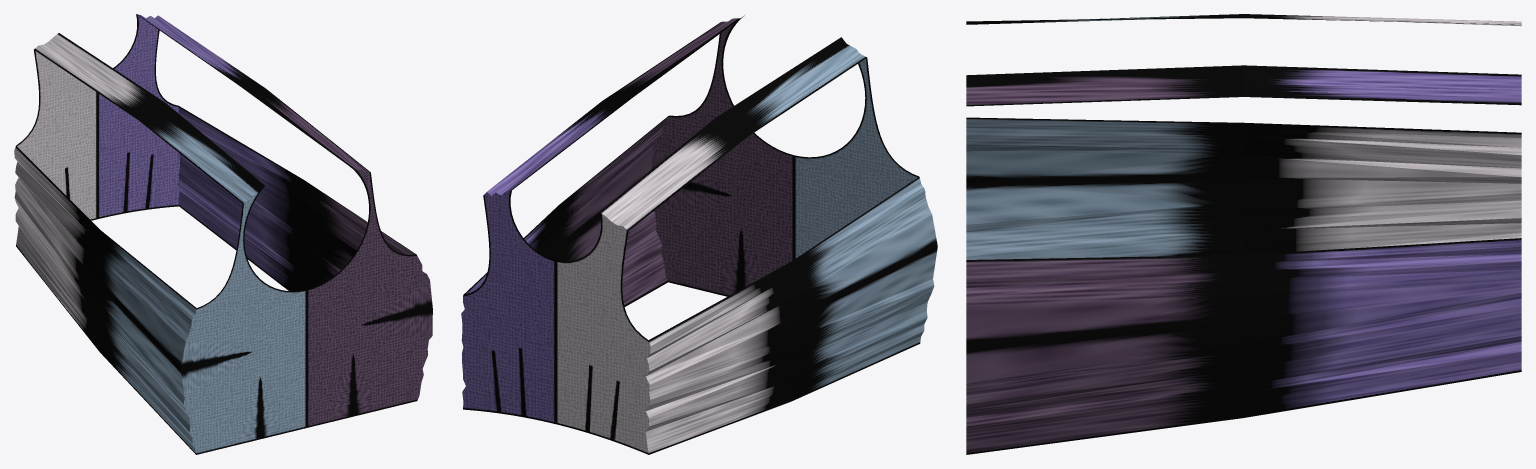
Rendered from tank_tight_boxmesh.obj.
The picture shows the model from 3 angles, left to right: view 1: azimuth 30°, elevation 25°; view 2: azimuth 150°, elevation 25°; view 3: azimuth 270°, elevation 25°; orthographic projection. The views are drawn at different scales.
Bounding box in the file's own units: 38.26 × 37.31 × 55.
1 material, 1 textured.
